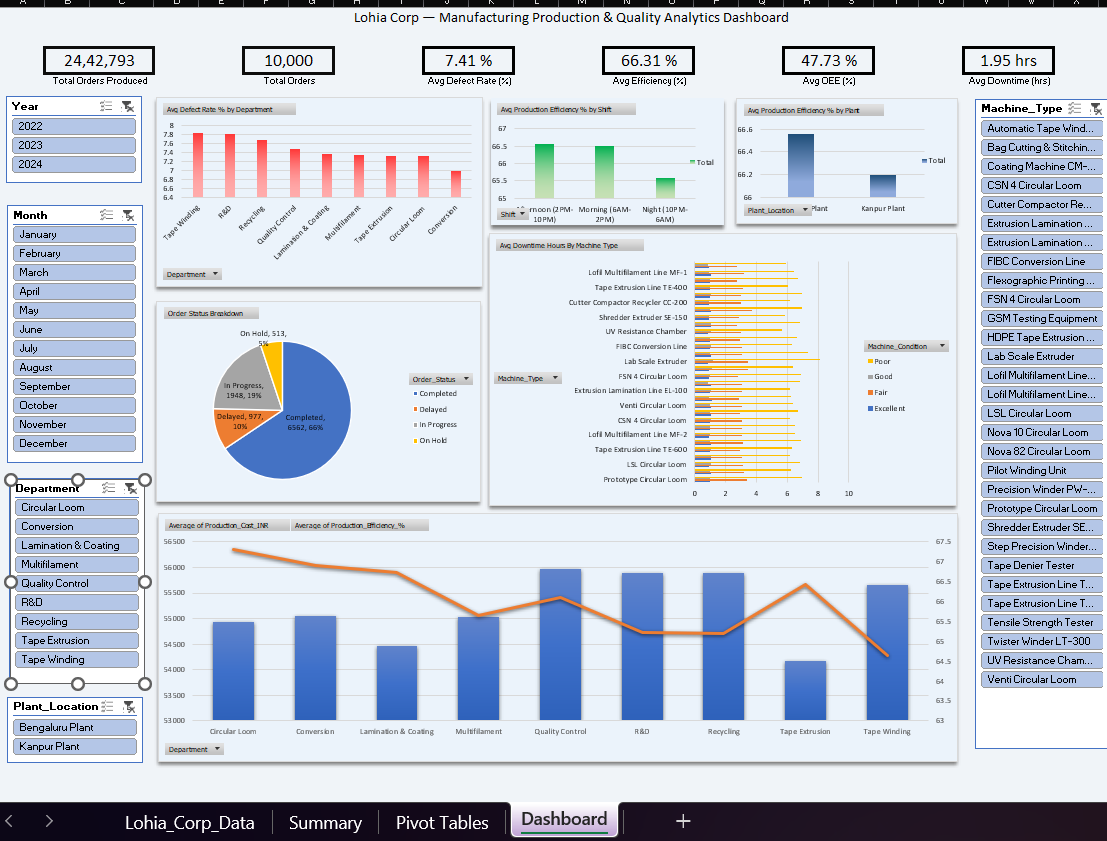

The dashboard page shown, as its layout file describes it:
{"tool":"powerbi","page":{"name":"Main Dashboard","canvas":[1900,900],"ordinal":1},"visuals":[{"type":"shape","box":[1600,0,300,900],"z":500},{"type":"shape","box":[1336,170,248,106],"z":1000},{"type":"shape","box":[1022,170,248,106],"z":2000},{"type":"shape","box":[674,170,248,106],"z":3000},{"type":"shape","box":[346,170,248,106],"z":4000},{"type":"shape","box":[14,170,248,106],"z":5000},{"type":"shape","box":[0,68,1600,102],"z":6000},{"type":"textbox","box":[0,0,1600,46],"z":7000},{"type":"cardVisual","fields":{"Data":["Measure.Avg Defect Rate %"]},"box":[692,188,246,102],"z":8000},{"type":"cardVisual","fields":{"Data":["Measure.Avg Production Efficiency %"]},"box":[1344,186,256,102],"z":9000},{"type":"cardVisual","fields":{"Data":["Measure.Avg Downtime Hours"]},"box":[1036,188,250,102],"z":10000},{"type":"slicer","fields":{"Values":["Lohia_Corp_Data.Year"]},"box":[28,78,220,66],"z":11000},{"type":"slicer","fields":{"Values":["Lohia_Corp_Data.Department"]},"box":[706,78,218,66],"z":12000},{"type":"slicer","fields":{"Values":["Lohia_Corp_Data.Plant Location"]},"box":[1350,78,218,66],"z":13000},{"type":"actionButton","box":[0,0,100,40],"z":14000},{"type":"cardVisual","fields":{"Data":["Measure.Target Achievement %"]},"box":[28,186,244,104],"z":15000},{"type":"cardVisual","fields":{"Data":["Measure.Delayed Orders %"]},"box":[362,188,244,104],"z":16000},{"type":"gauge","title":"Production Target Achievement %","fields":{"Y":["Measure.Target Achievement %"]},"box":[14,314,348,276],"z":17000},{"type":"slicer","fields":{"Values":["Lohia_Corp_Data.Month Name"]},"box":[374,78,220,66],"z":18000},{"type":"slicer","fields":{"Values":["Lohia_Corp_Data.Machine Type"]},"box":[1036,78,218,66],"z":19000},{"type":"areaChart","title":"Defect Rate Trend Over Time","fields":{"Category":["Lohia_Corp_Data.Month Name"],"Y":["Measure.Avg Defect Rate %"],"Series":["Lohia_Corp_Data.Year"]},"box":[391.9,614.5,530.6,285.5],"z":20000},{"type":"lineChart","title":"Monthly Production Trend & Forecast","fields":{"Y":["Measure.Total Units Charts"],"Category":["Lohia_Corp_Data.Production Date.Variation.Date Hierarchy.Year","Lohia_Corp_Data.Production Date.Variation.Date Hierarchy.Month"]},"box":[938,314,630,562],"z":21000},{"type":"scatterChart","title":"Defect Rate VS Downtime by Department","fields":{"X":["Measure.Avg Defect Rate %"],"Y":["Measure.Avg Downtime Hours"],"Series":["Lohia_Corp_Data.Department"],"Category":["Lohia_Corp_Data.Units Produced"]},"box":[16.1,600,346.8,300],"z":22000},{"type":"treemap","title":"Maintenance Required by Department","fields":{"Values":["Measure.Maintenance Count"],"Group":["Lohia_Corp_Data.Department"]},"box":[391.9,308.1,530.6,300],"z":23000},{"type":"pageNavigator","box":[1600,46,300,404],"z":24001}]}

Visuals, with their boxes on the page's 1900x900 design canvas (x1, y1, x2, y2). These are canvas units, not pixel positions in the 1107x841 screenshot, which may show the page scaled, cropped or inside an application window:
shape: (1600,0,1900,900)
shape: (1336,170,1584,276)
shape: (1022,170,1270,276)
shape: (674,170,922,276)
shape: (346,170,594,276)
shape: (14,170,262,276)
shape: (0,68,1600,170)
textbox: (0,0,1600,46)
cardVisual - Measure.Avg Defect Rate %: (692,188,938,290)
cardVisual - Measure.Avg Production Efficiency %: (1344,186,1600,288)
cardVisual - Measure.Avg Downtime Hours: (1036,188,1286,290)
slicer - Lohia_Corp_Data.Year: (28,78,248,144)
slicer - Lohia_Corp_Data.Department: (706,78,924,144)
slicer - Lohia_Corp_Data.Plant Location: (1350,78,1568,144)
actionButton: (0,0,100,40)
cardVisual - Measure.Target Achievement %: (28,186,272,290)
cardVisual - Measure.Delayed Orders %: (362,188,606,292)
"Production Target Achievement %" gauge: (14,314,362,590)
slicer - Lohia_Corp_Data.Month Name: (374,78,594,144)
slicer - Lohia_Corp_Data.Machine Type: (1036,78,1254,144)
"Defect Rate Trend Over Time" areaChart: (392,614,922,900)
"Monthly Production Trend & Forecast" lineChart: (938,314,1568,876)
"Defect Rate VS Downtime by Department" scatterChart: (16,600,363,900)
"Maintenance Required by Department" treemap: (392,308,922,608)
pageNavigator: (1600,46,1900,450)
